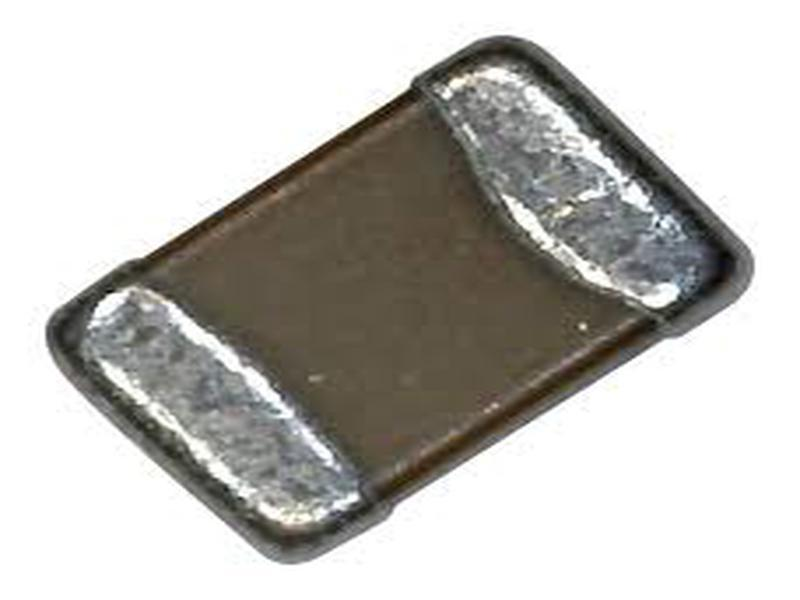SMD capacitor: (65, 14, 780, 556)
